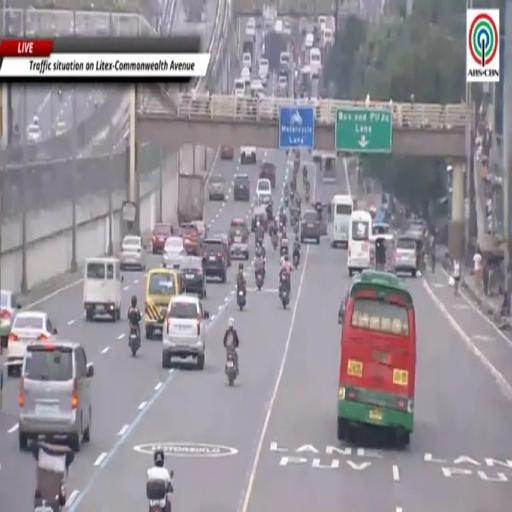bus: (338, 271, 416, 446), (347, 211, 372, 276), (327, 194, 354, 248), (312, 150, 336, 183)
car: (18, 341, 94, 452), (162, 295, 209, 370), (7, 312, 56, 376), (144, 268, 181, 340), (393, 233, 420, 277), (201, 238, 227, 282), (0, 291, 20, 348), (180, 256, 206, 298), (120, 235, 145, 270), (229, 219, 249, 260), (162, 236, 186, 269), (209, 233, 231, 266), (300, 210, 320, 244), (180, 222, 199, 254), (152, 223, 172, 253), (229, 218, 249, 243), (259, 161, 276, 190), (234, 173, 250, 201), (208, 175, 225, 200), (252, 205, 267, 232), (256, 179, 272, 204), (27, 117, 40, 142), (192, 220, 207, 241), (240, 147, 256, 164), (278, 76, 288, 95), (56, 120, 67, 136), (240, 68, 250, 85), (221, 146, 233, 159), (243, 53, 251, 71), (283, 21, 290, 35)
motorcycle: (147, 479, 173, 511), (225, 350, 236, 386), (129, 326, 140, 357), (280, 279, 289, 309), (255, 269, 265, 290), (237, 290, 245, 311), (280, 239, 288, 255), (292, 251, 299, 269), (272, 233, 278, 250), (305, 189, 309, 202), (305, 181, 310, 191), (284, 196, 288, 206)
truck: (177, 174, 204, 225), (183, 0, 205, 23)
